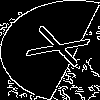X: (24, 25, 100, 72)
